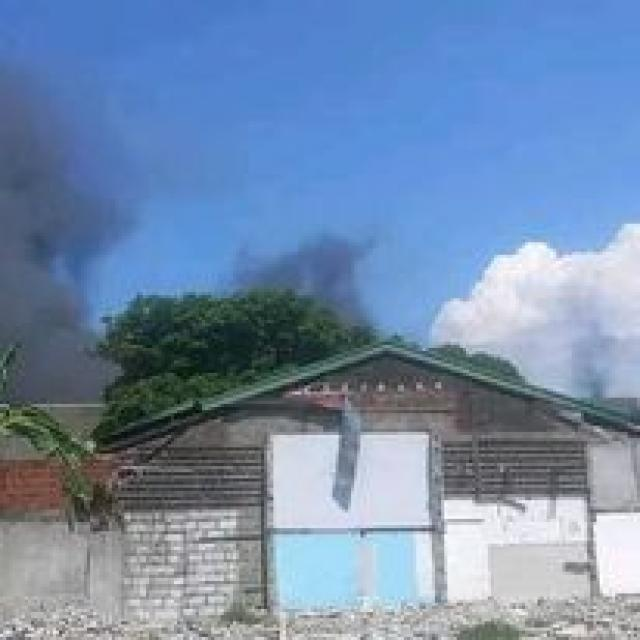Smoke: (3, 79, 108, 402), (271, 234, 373, 308)
